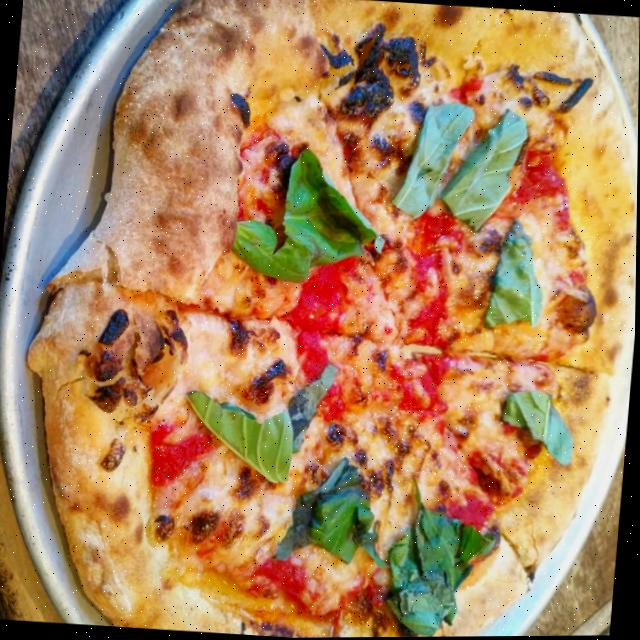basil: (224, 143, 392, 289), (376, 473, 504, 638), (271, 454, 401, 576), (390, 90, 478, 227), (439, 108, 534, 234), (181, 391, 300, 484), (480, 218, 552, 337), (494, 380, 581, 470), (280, 356, 342, 458)
pizza: (5, 0, 640, 640)
